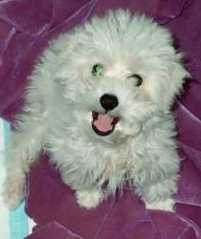dog: (14, 19, 181, 213)
